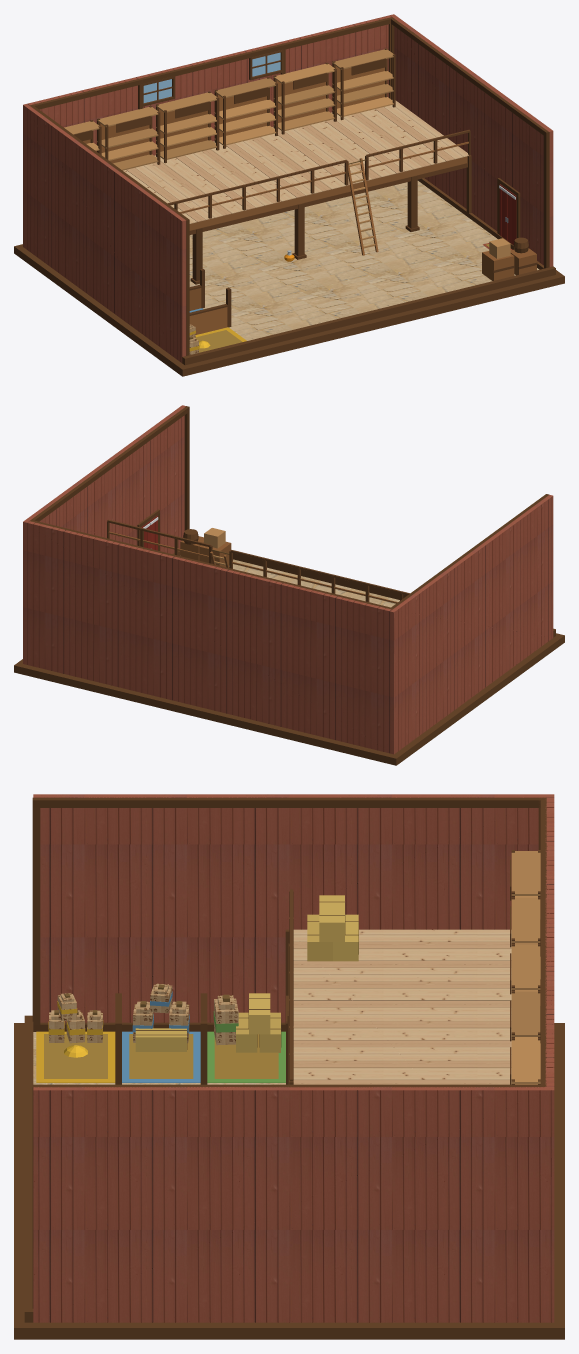
Rendered from almacen_interior.glb.
3 views of the same model, one above another, from view 1: azimuth 30°, elevation 25°; view 2: azimuth 150°, elevation 25°; view 3: azimuth 270°, elevation 25° (orthographic). The views are drawn at different scales.
Visible parts, largest first — view 1: SM_AlmacenBase, SM_AlmacenAltillo; view 2: SM_AlmacenBase, SM_AlmacenAltillo; view 3: SM_AlmacenBase, SM_AlmacenAltillo.
Part boxes in pixels (x1,y1,x2,y2): SM_AlmacenBase: (14,14,564,376); SM_AlmacenAltillo: (64,48,470,234); SM_AlmacenBase: (14,405,564,765); SM_AlmacenAltillo: (107,519,409,603); SM_AlmacenBase: (14,794,564,1339); SM_AlmacenAltillo: (288,850,540,1084).
Bounding box in the file's own units: 16.9 × 6.32 × 12.9.
6 materials, 4 textured.
